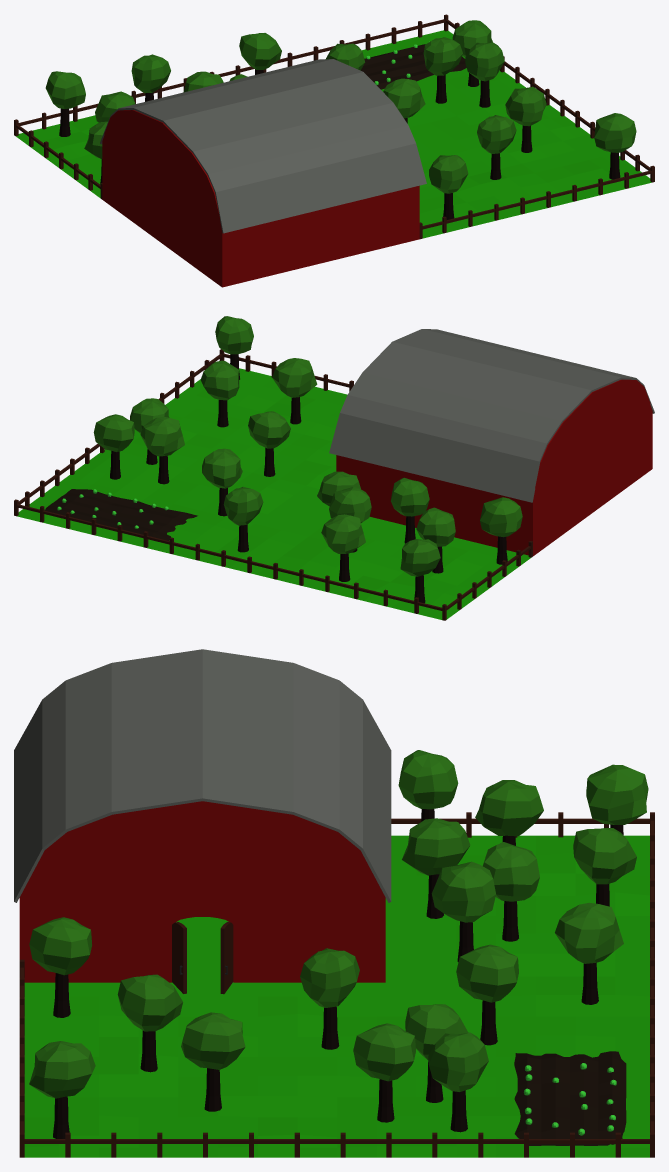
File: ferma.obj
The picture shows the model from 3 angles, top to bottom: view 1: azimuth 30°, elevation 25°; view 2: azimuth 150°, elevation 25°; view 3: azimuth 270°, elevation 25°; orthographic projection. The views are drawn at different scales.
Parts seen in each view (by area): view 1: Plane.001, Plane, Cube.008, Cube.010, Cube.011, Plane.002, Sphere.011, Sphere.012, Sphere.029, Sphere.034, Sphere.038, Sphere.007 (+12 smaller); view 2: Plane, Plane.001, Cube.010, Cube.009, Cube.011, Plane.002, Cube.023, Sphere.026, Sphere.022, Sphere.037, Sphere.008, Sphere.018 (+12 smaller); view 3: Plane, Plane.001, Cube.012, Cube.003, Cube, Plane.002, Sphere.029, Sphere.034, Sphere.021, Sphere.025, Sphere.011, Sphere.012 (+17 smaller).
Boxes of the visible parts, x1=… form: Plane.001: x1=100, y1=59, x2=426, y2=233; Plane: x1=16, y1=30, x2=651, y2=238; Cube.008: x1=221, y1=186, x2=418, y2=287; Cube.010: x1=103, y1=140, x2=221, y2=286; Cube.011: x1=103, y1=110, x2=220, y2=225; Plane.002: x1=361, y1=44, x2=466, y2=89; Sphere.011: x1=594, y1=113, x2=636, y2=152; Sphere.012: x1=505, y1=86, x2=546, y2=126; Sphere.029: x1=45, y1=71, x2=85, y2=108; Sphere.034: x1=239, y1=33, x2=281, y2=69; Sphere.038: x1=465, y1=42, x2=504, y2=81; Sphere.007: x1=429, y1=155, x2=468, y2=193; Plane: x1=17, y1=368, x2=530, y2=619; Plane.001: x1=329, y1=329, x2=654, y2=502; Cube.010: x1=534, y1=410, x2=651, y2=555; Cube.009: x1=337, y1=455, x2=533, y2=556; Cube.011: x1=534, y1=379, x2=651, y2=495; Plane.002: x1=44, y1=489, x2=197, y2=540; Cube.023: x1=17, y1=504, x2=442, y2=610; Sphere.026: x1=480, y1=497, x2=522, y2=537; Sphere.022: x1=321, y1=514, x2=365, y2=553; Sphere.037: x1=140, y1=416, x2=184, y2=456; Sphere.008: x1=272, y1=358, x2=317, y2=397; Sphere.018: x1=202, y1=448, x2=242, y2=488; Plane: x1=24, y1=835, x2=649, y2=1157; Plane.001: x1=14, y1=649, x2=391, y2=902; Cube.012: x1=24, y1=801, x2=381, y2=890; Cube.003: x1=233, y1=890, x2=385, y2=982; Cube: x1=19, y1=890, x2=171, y2=982; Plane.002: x1=514, y1=1051, x2=626, y2=1145; Sphere.029: x1=586, y1=764, x2=648, y2=824; Sphere.034: x1=555, y1=902, x2=623, y2=963; Sphere.021: x1=431, y1=861, x2=496, y2=922; Sphere.025: x1=475, y1=780, x2=543, y2=836; Sphere.011: x1=29, y1=1041, x2=95, y2=1098; Sphere.012: x1=181, y1=1012, x2=245, y2=1069.
Bounding box in the file's own units: 30.04 × 8.54 × 25.22.
